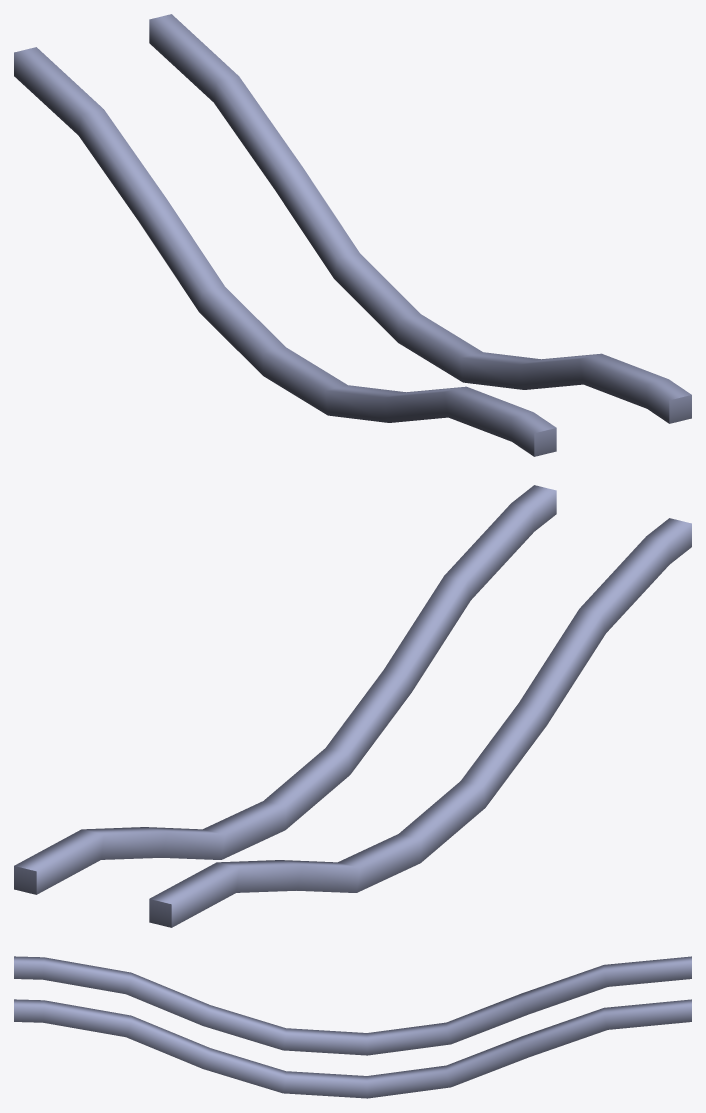
File: railroad-rail-straight-bump-down.glb
3 views of the same model, one above another, from view 1: azimuth 30°, elevation 25°; view 2: azimuth 150°, elevation 25°; view 3: azimuth 270°, elevation 25° (orthographic). The views are drawn at different scales.
Visible parts, largest first — view 1: railroad-rail-straight-bump-down; view 2: railroad-rail-straight-bump-down; view 3: railroad-rail-straight-bump-down.
Boxes of the visible parts, left/top/right/bottom form: railroad-rail-straight-bump-down: left=14, top=14, right=691, bottom=456; railroad-rail-straight-bump-down: left=14, top=485, right=691, bottom=927; railroad-rail-straight-bump-down: left=14, top=956, right=691, bottom=1098.
Bounding box in the file's own units: 0.7 × 0.5987 × 4.
